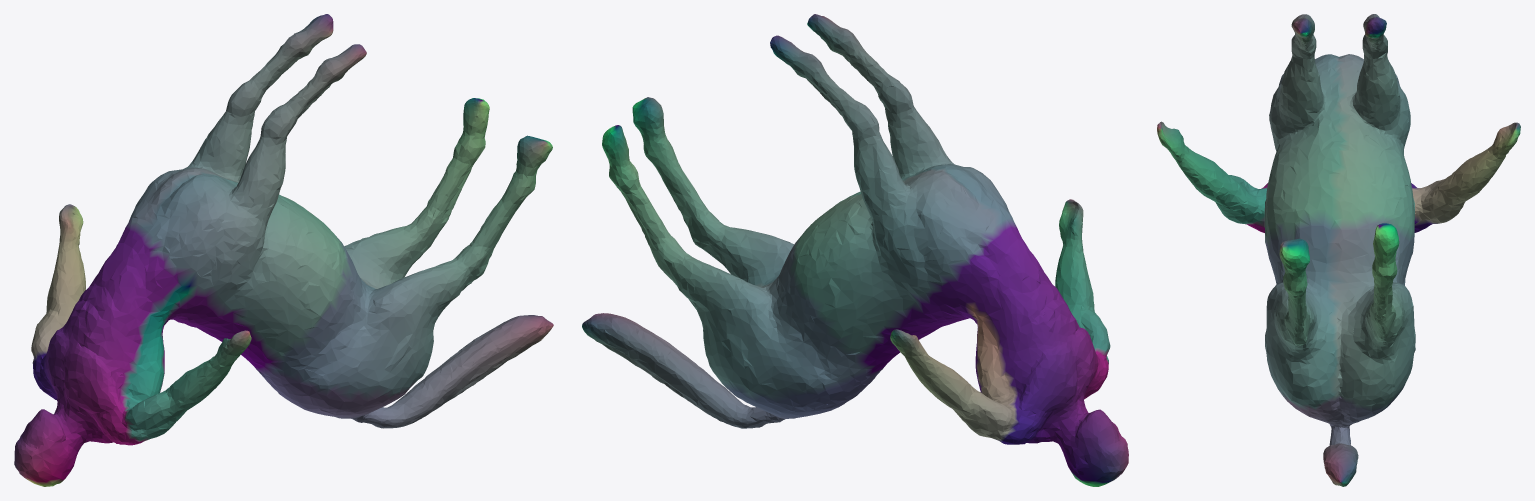
File: centaur-10.off.obj
The picture shows the model from 3 angles, left to right: view 1: azimuth 30°, elevation 25°; view 2: azimuth 150°, elevation 25°; view 3: azimuth 270°, elevation 25°; orthographic projection. The views are drawn at different scales.
Size of the model in its own units: 1.53 by 1.13 by 0.8773.
